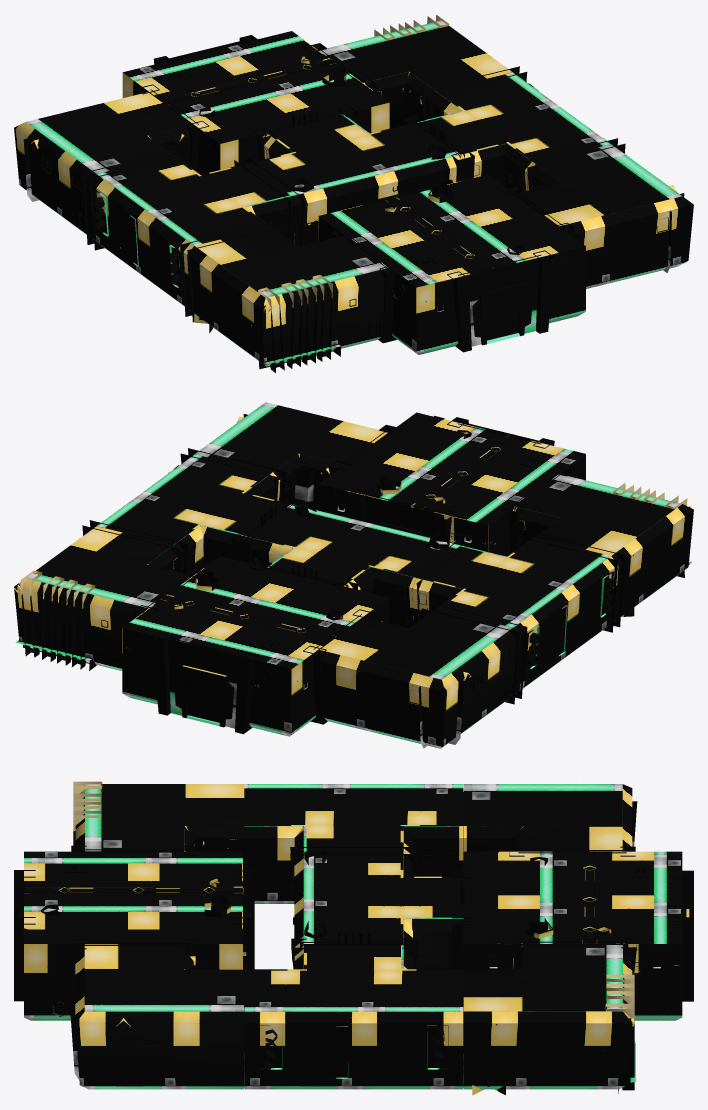
The model's file is Combined_Mesh_root_scene__22_9f3a19a4__zombies2_diffuse_12_078cf75e_c1f257.obj.
The picture shows the model from 3 angles, top to bottom: view 1: azimuth 30°, elevation 25°; view 2: azimuth 150°, elevation 25°; view 3: azimuth 270°, elevation 25°; orthographic projection. The views are drawn at different scales.
Size of the model in its own units: 52.07 by 9.64 by 62.1.
Materials: 147 (147 with a texture image).
